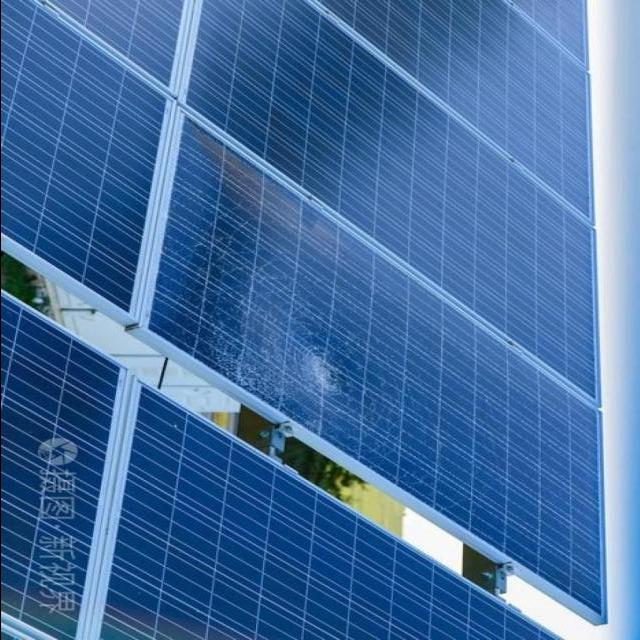cracked: (155, 145, 605, 621)
